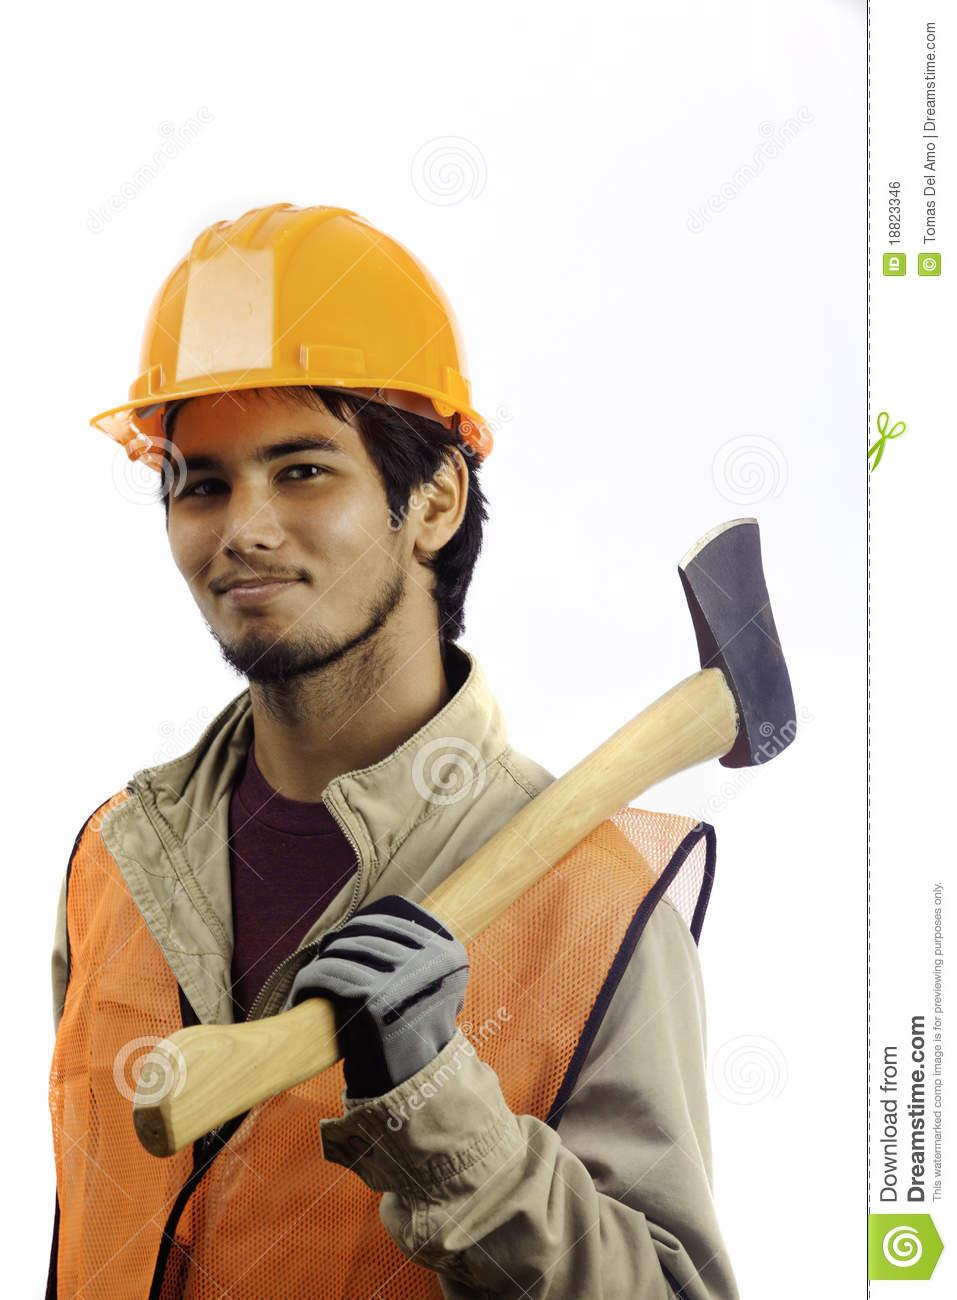helmet: (90, 202, 490, 477)
